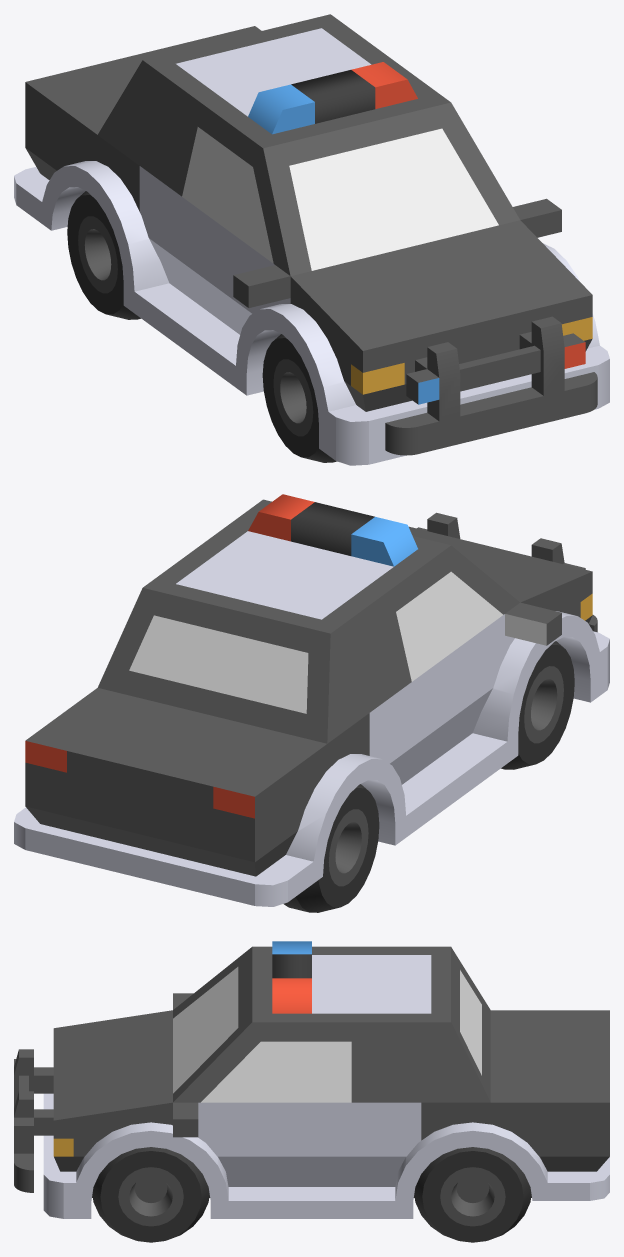
Rendered from police.glb.
3 views of the same model, one above another, from view 1: azimuth 30°, elevation 25°; view 2: azimuth 150°, elevation 25°; view 3: azimuth 270°, elevation 25° (orthographic). The views are drawn at different scales.
Parts seen in each view (by area): view 1: body, grill, wheel_backRight, wheel_frontRight; view 2: body, wheel_backRight, wheel_frontRight, grill; view 3: body, wheel_backLeft, wheel_frontLeft, grill.
Boxes of the visible parts, box(x1,y1,x2,y2) form: body: box(14, 14, 609, 465); grill: box(385, 316, 597, 455); wheel_backRight: box(67, 191, 140, 319); wheel_frontRight: box(262, 334, 336, 462); body: box(14, 494, 609, 906); wheel_backRight: box(284, 784, 379, 912); wheel_frontRight: box(501, 641, 574, 769); grill: box(417, 512, 597, 632); body: box(43, 941, 609, 1218); wheel_backLeft: box(414, 1147, 531, 1242); wheel_frontLeft: box(92, 1147, 209, 1242); grill: box(14, 1049, 53, 1192).
Bounding box in the file's own units: 1.5 × 1.3 × 3.
